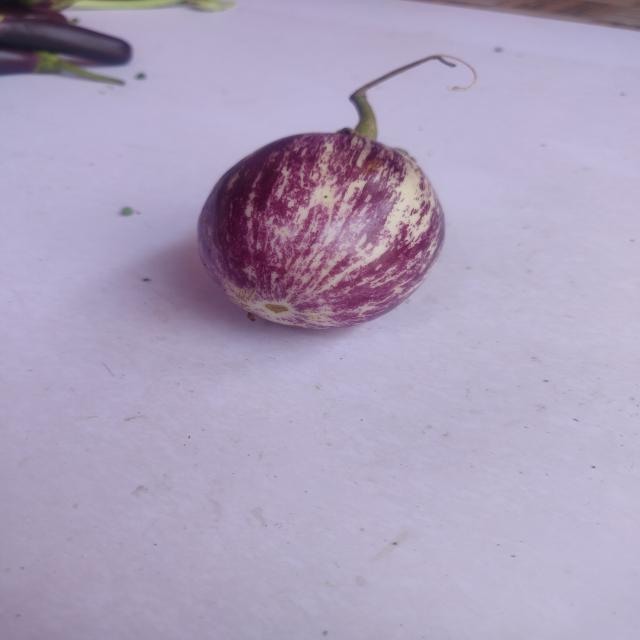Eggplant: (184, 60, 471, 350)
